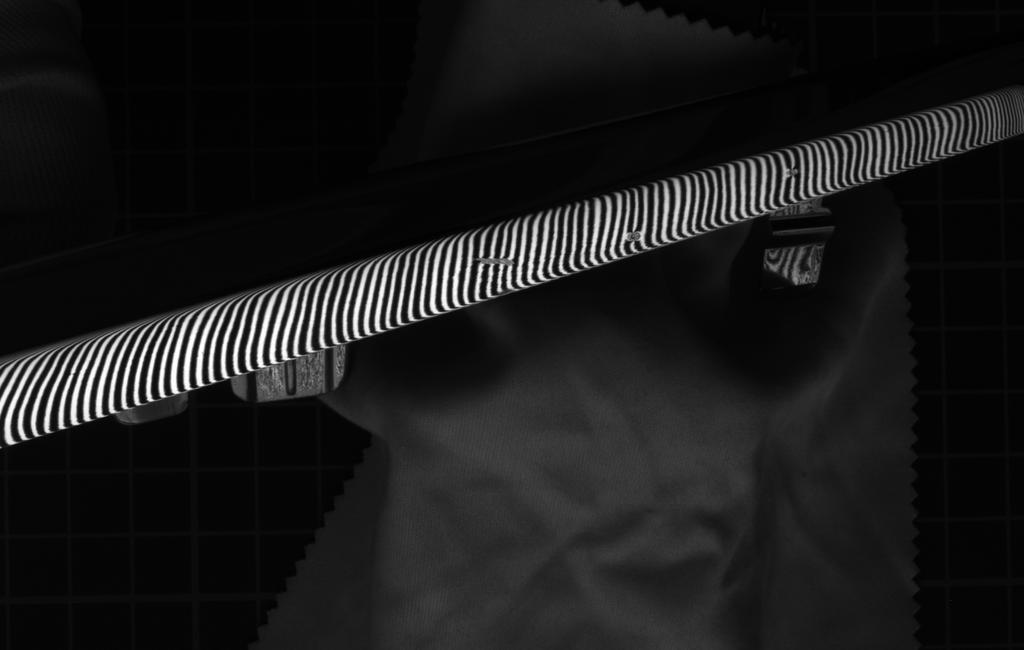Pierced: (620, 228, 651, 248), (784, 162, 803, 181)
Scratch: (469, 252, 528, 270)
